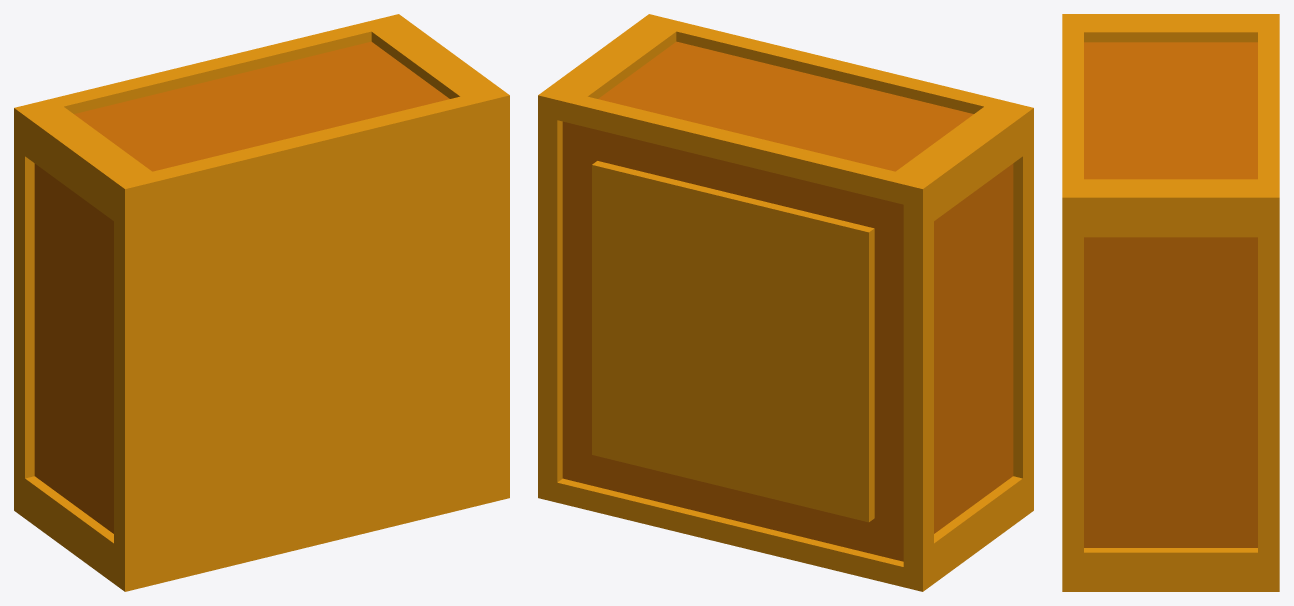
3 views of the same model, side by side, from view 1: azimuth 30°, elevation 25°; view 2: azimuth 150°, elevation 25°; view 3: azimuth 270°, elevation 25° (orthographic). The views are drawn at different scales.
Visible parts, largest first — view 1: Cube; view 2: Cube; view 3: Cube.
Boxes of the visible parts, x1,y1,x2,y2 form: Cube: (14, 14, 509, 591); Cube: (538, 14, 1033, 591); Cube: (1062, 14, 1279, 591).
Bounding box in the file's own units: 200 × 200 × 100.
Materials: 1 (1 with a texture image).
